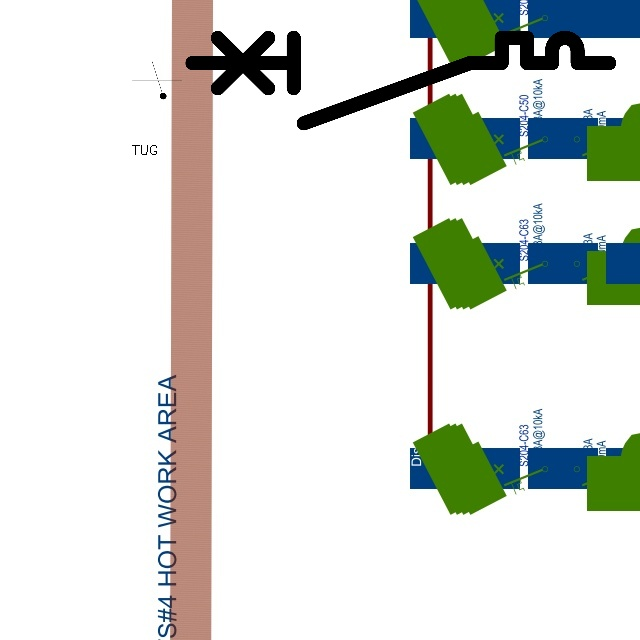interruptor_termomagnetico: (181, 27, 619, 134)
